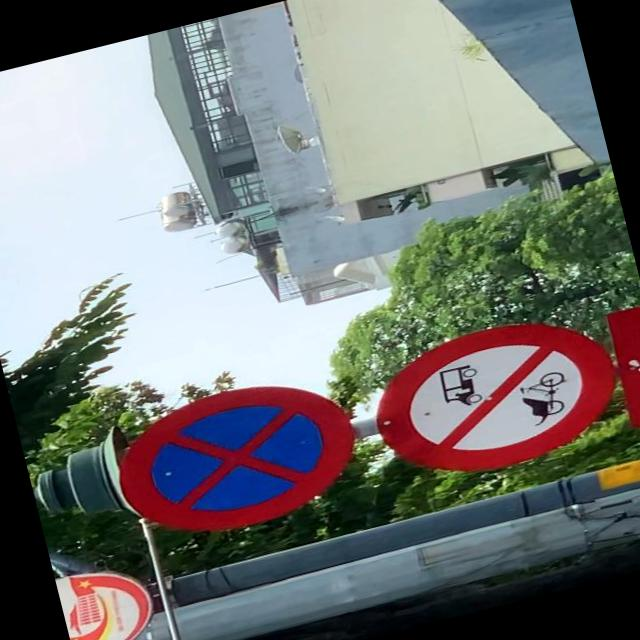P-130: (105, 362, 367, 552)
